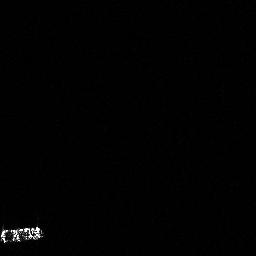ship: (1, 227, 43, 243)
